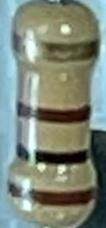Black: (13, 141, 90, 164)
Brown: (7, 178, 95, 208), (16, 98, 91, 124)
Side-Gold: (11, 33, 99, 62)
